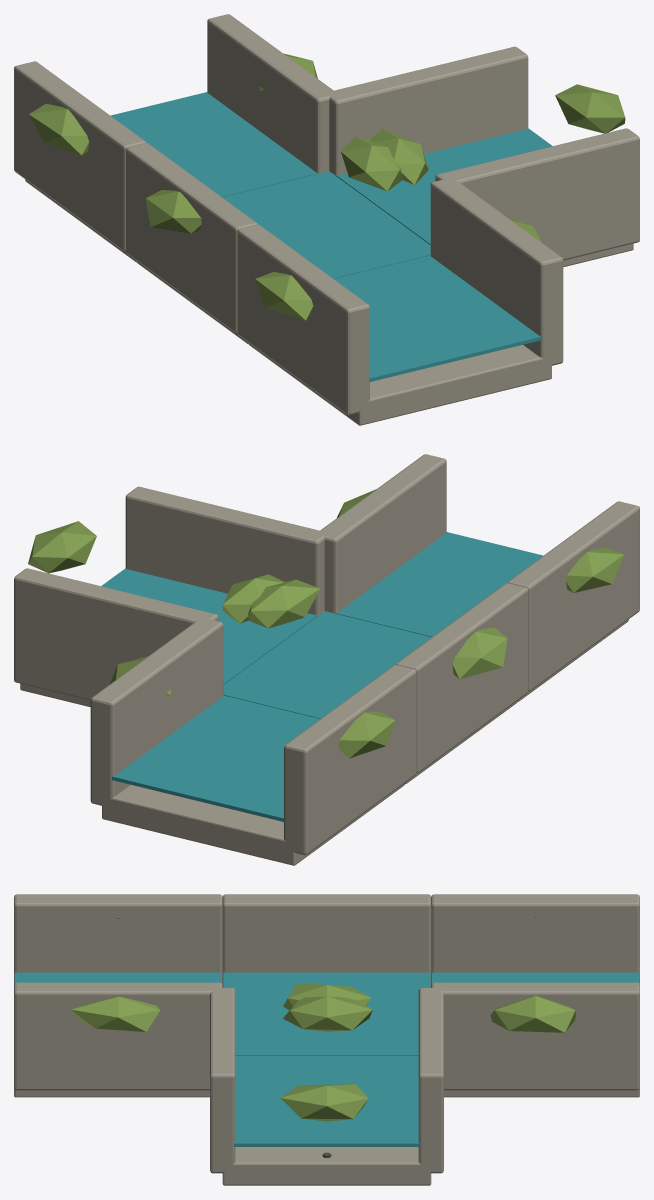
File: Channel_Junction_Reclaimed.glb
The picture shows the model from 3 angles, top to bottom: view 1: azimuth 30°, elevation 25°; view 2: azimuth 150°, elevation 25°; view 3: azimuth 270°, elevation 25°; orthographic projection. The views are drawn at different scales.
Visible parts, largest first — view 1: Structure, Water, Growth; view 2: Structure, Water, Growth; view 3: Structure, Water, Growth.
Boxes of the visible parts, <box> form: Structure: <box>14,14,639,425</box>; Water: <box>110,92,552,381</box>; Growth: <box>29,53,625,320</box>; Structure: <box>14,454,639,865</box>; Water: <box>101,532,543,821</box>; Growth: <box>28,489,624,758</box>; Structure: <box>14,894,639,1185</box>; Water: <box>14,972,639,1146</box>; Growth: <box>71,917,576,1121</box>.
Bounding box in the file's own units: 4.84 × 1.17 × 6.
